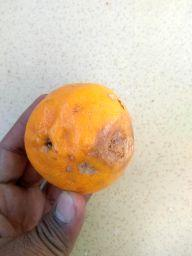Unripe: (23, 82, 135, 193)
